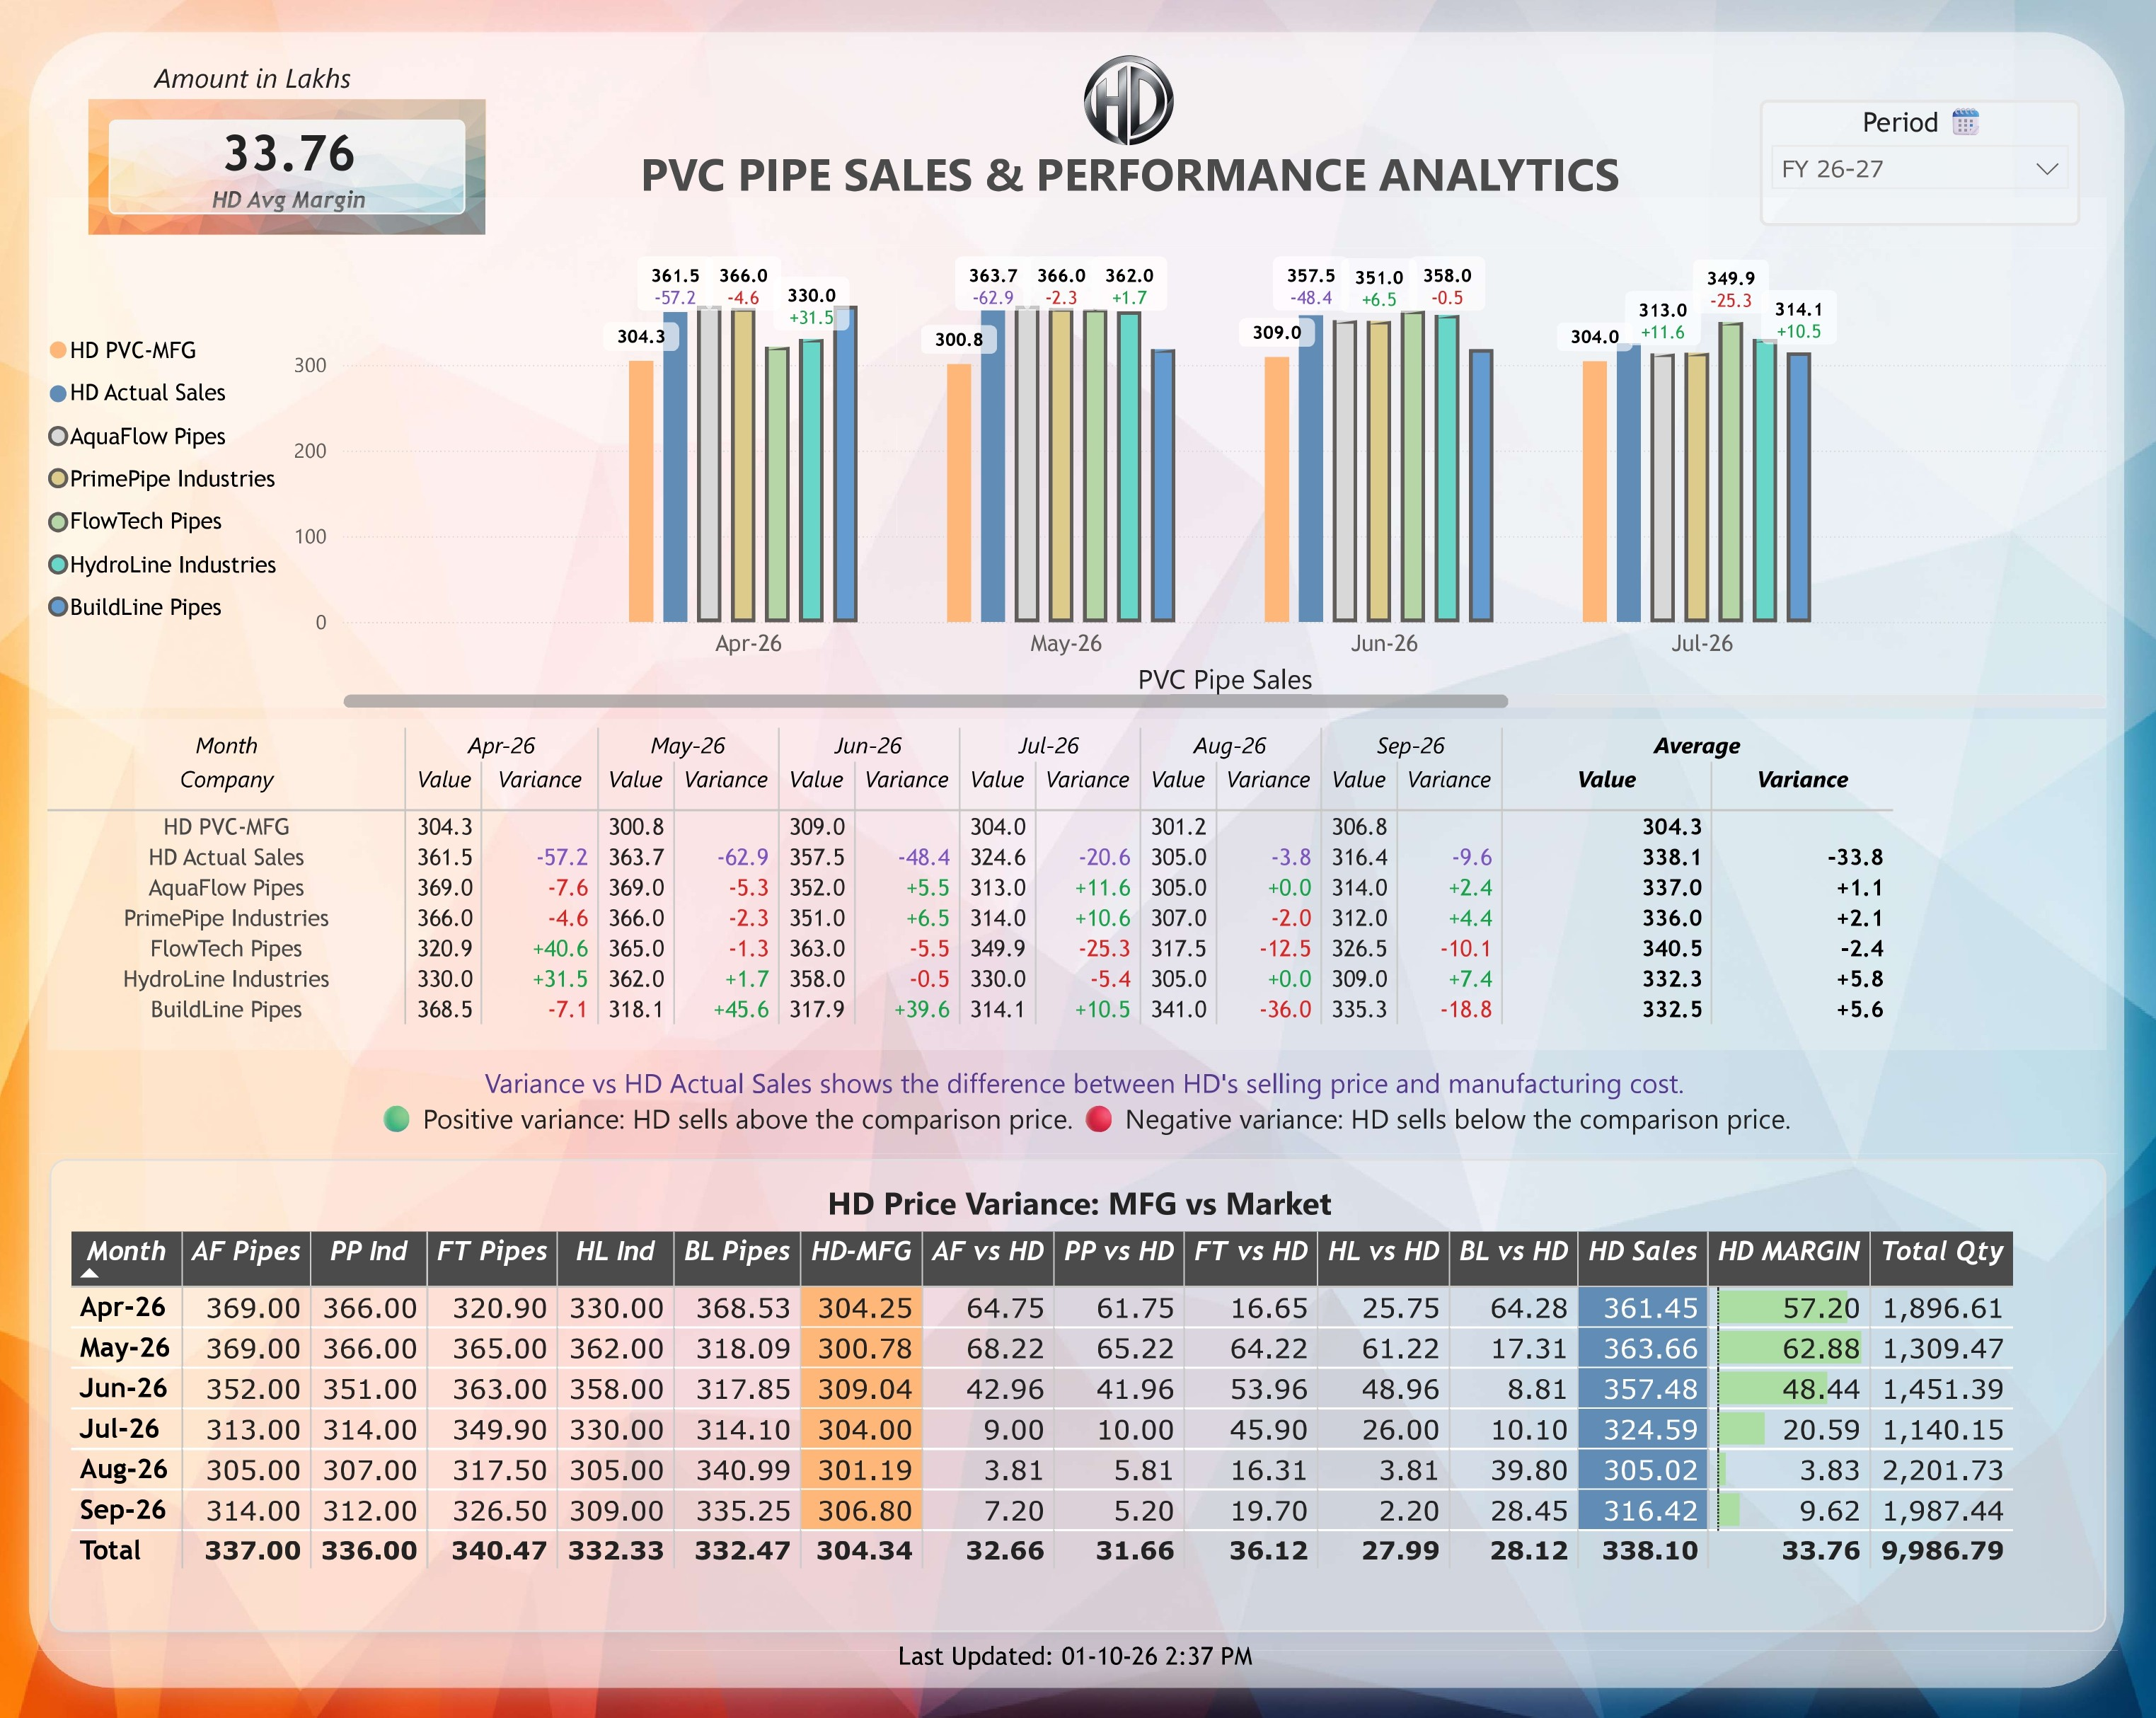

Layout of this report page (visuals, bound fields, positions):
{"tool":"powerbi","page":{"name":"PVC PIPE SALES & PERFORMANCE ANALYTICS","canvas":[1280,1020],"ordinal":0},"visuals":[{"type":"shape","box":[0,0,1280,1020],"z":0},{"type":"textbox","box":[333.3,80.3,676.8,68.4],"z":1000},{"type":"card","fields":{"Values":["Refresh_Date.Refresh_Update_local"]},"box":[488.8,967.4,300.4,31.4],"z":2000},{"type":"pivotTable","title":" ","fields":{"Columns":["Dealer Sales.Month Year"],"Rows":["Company Sales.Company"],"Values":["Dealer Sales.Sales prize2","Dealer Sales.Difference Label"]},"box":[30.8,427.3,1218.6,194.8],"z":3000},{"type":"pivotTable","title":"HD Price Variance: MFG vs Market","fields":{"Rows":["ADC12_Manufacturing.Month Year"],"Values":["Avg(ADC12_Manufacturing.AquaFlow Pipes)","Avg(ADC12_Manufacturing.PrimePipe Industries)","Avg(ADC12_Manufacturing.FlowTech Pipes)","Avg(ADC12_Manufacturing.HydroLine Industries)","Avg(ADC12_Manufacturing.BuildLine Pipes)","Avg(ADC12_Manufacturing.HD-MFG)","Avg(ADC12_Manufacturing.AquaFlow Pipes-HD_MFG)","Avg(ADC12_Manufacturing.PrimePipe Industries-HD_MFG)","Avg(ADC12_Manufacturing.FlowTech Pipes-HD_MFG)","Avg(ADC12_Manufacturing.HydroLine Industries-HD_MFG)","Avg(ADC12_Manufacturing.BuildLine Pipes-HD_MFG)","Avg(ADC12_Manufacturing.HD-ActSales)"]},"box":[32.5,687.1,1216.9,280.3],"z":4000},{"type":"cardVisual","fields":{"Data":["ADC12_Manufacturing.Weighted VIM Margin"]},"box":[54.7,59.8,235,80],"z":5000},{"type":"clusteredColumnChart","title":" ","fields":{"Category":["Dealer Sales.Month Year"],"Series":["Company Sales.Company"],"Y":["Dealer Sales.Sales prize2"]},"box":[30.8,117.9,1218.6,302.5],"z":6000},{"type":"image","box":[634.1,30.8,73.5,58.1],"z":7000},{"type":"textbox","box":[54.7,625.5,1179.3,61.5],"z":8000},{"type":"textbox","box":[88.9,30.8,169.2,39.3],"z":9000},{"type":"slicer","title":"Period 🗓️","fields":{"Values":["Dealer Sales.Fiscal Year","Company Sales.Month Year"]},"box":[1044.3,59.8,189.7,75.2],"z":10000}]}

Visuals, with their boxes in screenshot pixels (x1, y1, x2, y2), scaled from the page's 1280x1020 canvas onto the 2156x1718 screenshot:
shape: (0, 0, 2155, 1717)
textbox: (561, 135, 1702, 250)
card - Refresh_Date.Refresh_Update_local: (824, 1630, 1330, 1683)
" " pivotTable: (52, 720, 2104, 1048)
"HD Price Variance: MFG vs Market" pivotTable: (54, 1158, 2104, 1630)
cardVisual - ADC12_Manufacturing.Weighted VIM Margin: (92, 100, 488, 236)
" " clusteredColumnChart: (52, 199, 2104, 708)
image: (1068, 52, 1192, 150)
textbox: (92, 1054, 2078, 1157)
textbox: (150, 52, 434, 118)
"Period 🗓️" slicer: (1759, 100, 2078, 227)
